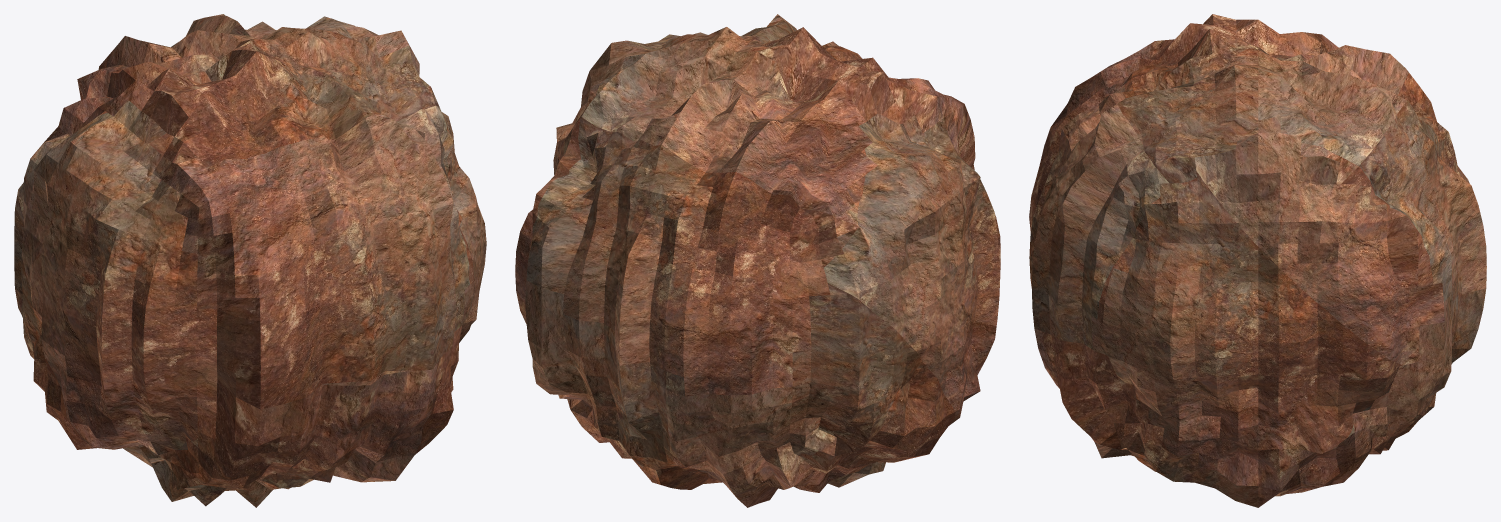
The model's file is asteroid186.obj.
3 renders of one model, left to right at view 1: azimuth 30°, elevation 25°; view 2: azimuth 150°, elevation 25°; view 3: azimuth 270°, elevation 25°, orthographic. The views are drawn at different scales.
Visible parts, largest first — view 1: Cube_Cube.002; view 2: Cube_Cube.002; view 3: Cube_Cube.002.
Boxes of the visible parts, x1=… form: Cube_Cube.002: x1=14, y1=14, x2=486, y2=507; Cube_Cube.002: x1=515, y1=14, x2=1000, y2=507; Cube_Cube.002: x1=1029, y1=14, x2=1486, y2=507.
Bounding box in the file's own units: 1.68 × 1.88 × 1.79.
